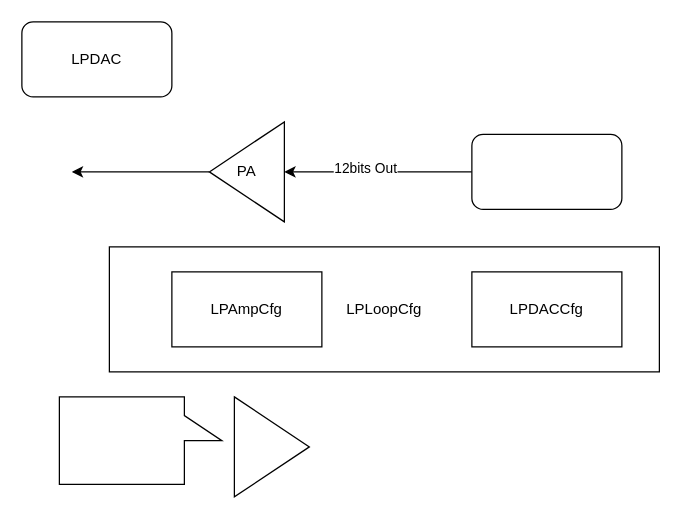
This 681x519 diagram has some shape labels left out. The centre of each missing label's shape, as x and y in pixels:
"LP DAC" belongs at pixel 546 171.
"LPTIA" belongs at pixel 271 446.
"LPTIA set in LPAMP" belongs at pixel 140 440.
